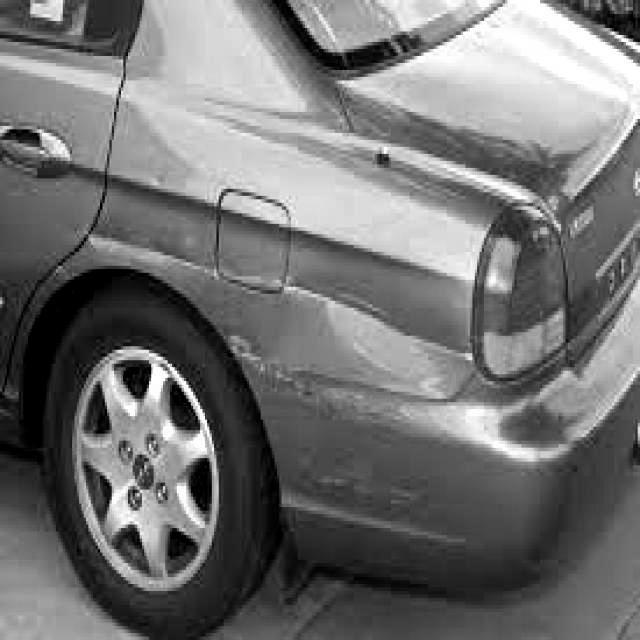quaterpanel-dent: (107, 158, 481, 438)
